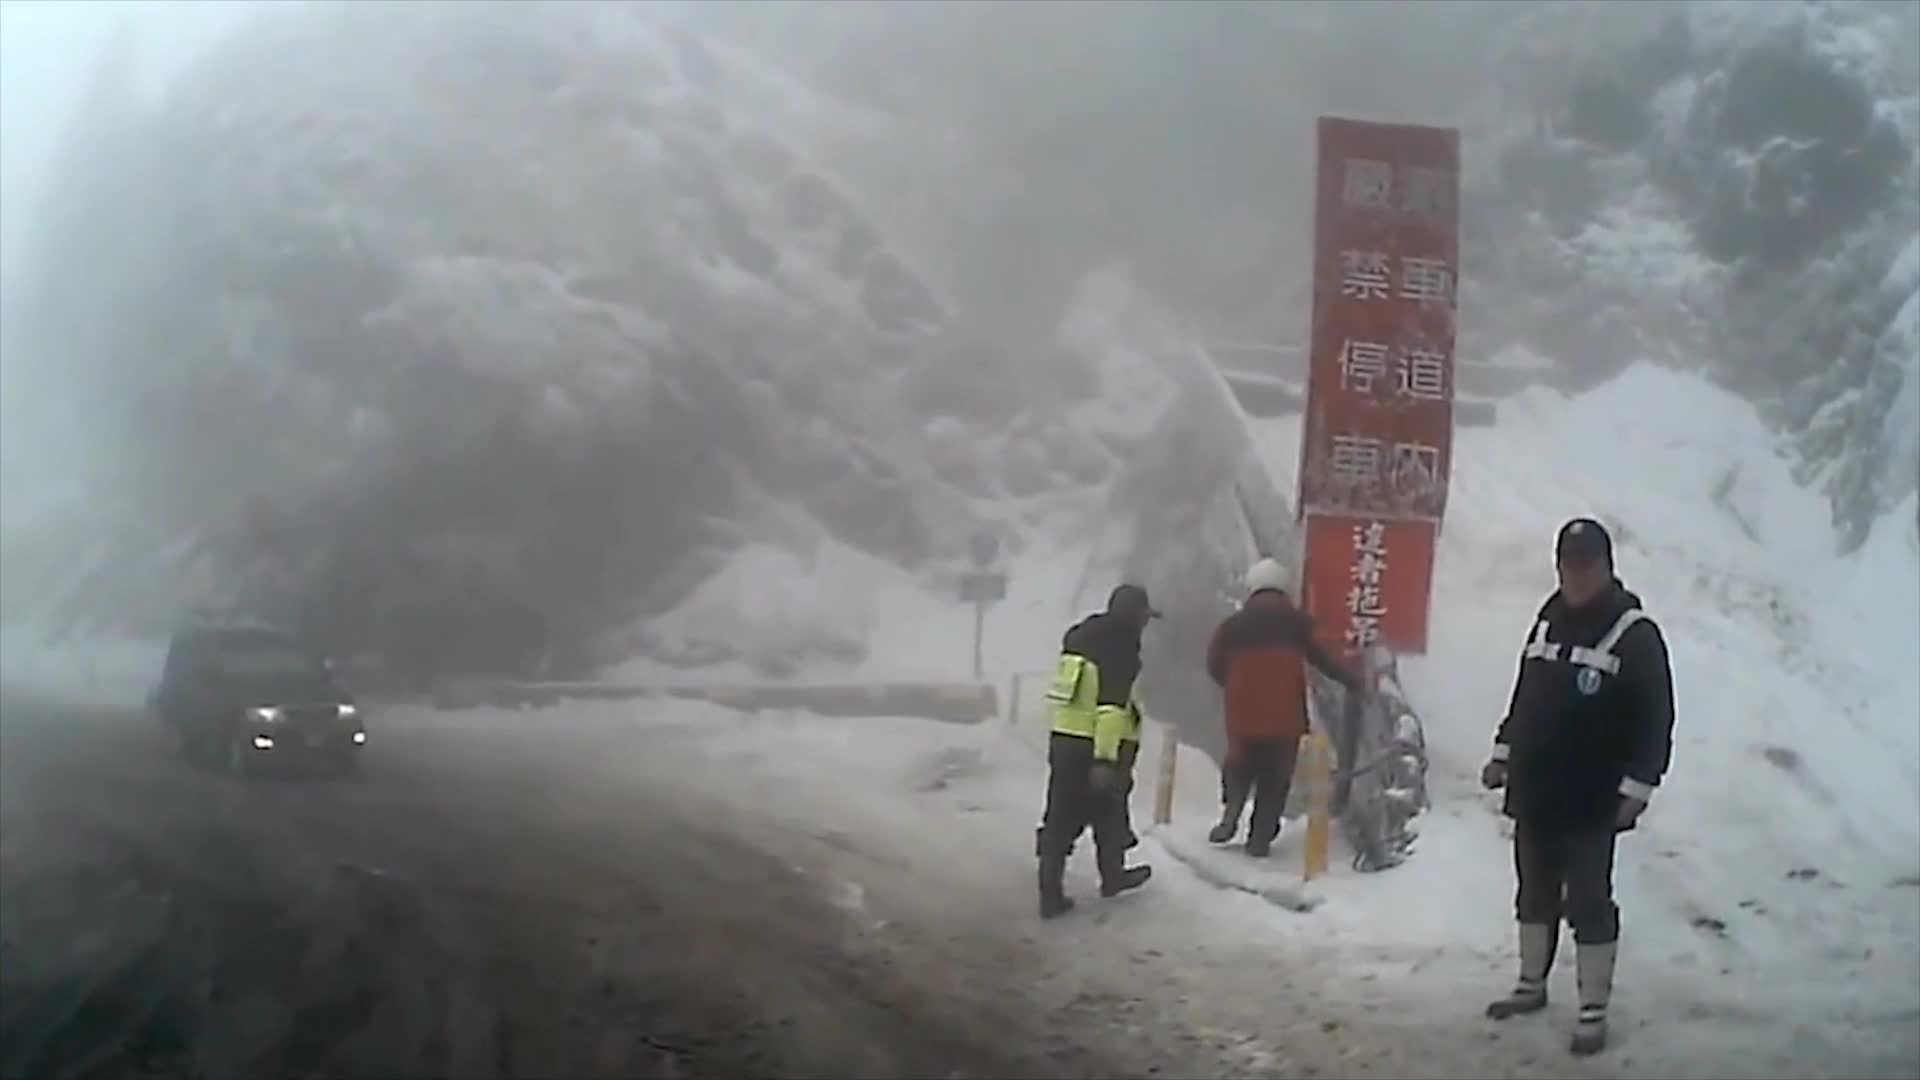pedestrian: (1485, 518, 1684, 1060), (1034, 586, 1160, 920), (1211, 554, 1344, 860)
vehicle: (159, 632, 370, 792)
